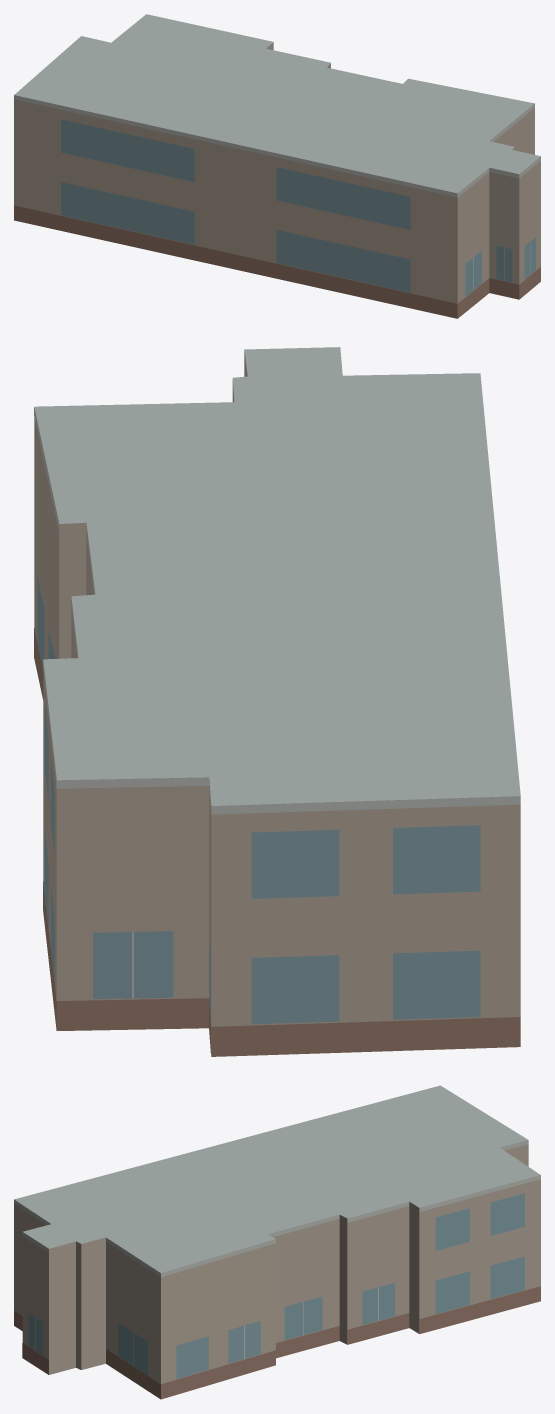
The model's file is survey-upis-32473991.glb.
3 views of the same model, one above another, from view 1: azimuth 30°, elevation 25°; view 2: azimuth 150°, elevation 25°; view 3: azimuth 270°, elevation 25° (orthographic). The views are drawn at different scales.
Visible parts, largest first — view 1: survey-upis-32473991.tmp; view 2: survey-upis-32473991.tmp; view 3: survey-upis-32473991.tmp.
Boxes of the visible parts, <box> form: survey-upis-32473991.tmp: <box>14,14,540,318</box>; survey-upis-32473991.tmp: <box>34,347,520,1056</box>; survey-upis-32473991.tmp: <box>14,1085,540,1399</box>.
Bounding box in the file's own units: 22.97 × 7.2 × 27.23.
